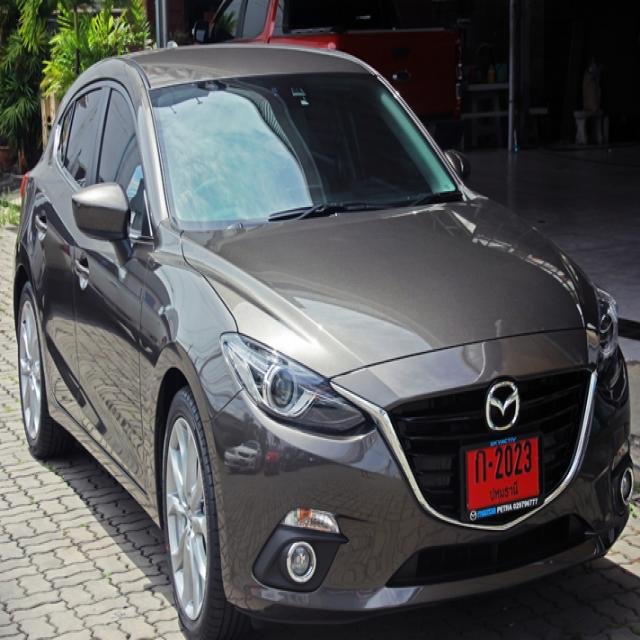license_plate: (462, 428, 547, 531)
